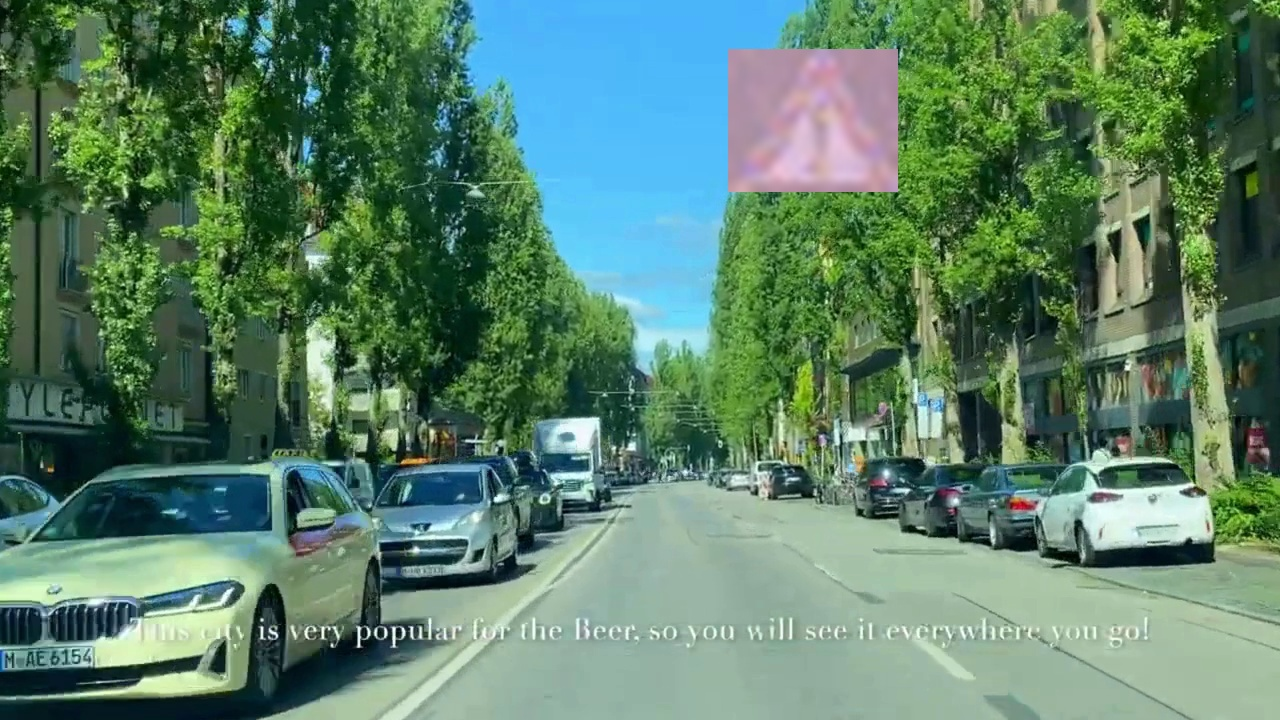Caution: (728, 49, 898, 192)
